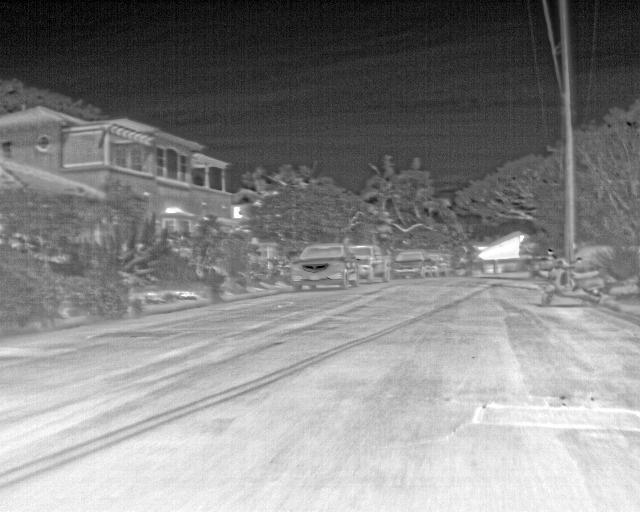bicycle: (541, 266, 605, 306)
car: (288, 240, 363, 291), (354, 242, 391, 283), (390, 249, 436, 279), (431, 250, 452, 277)
